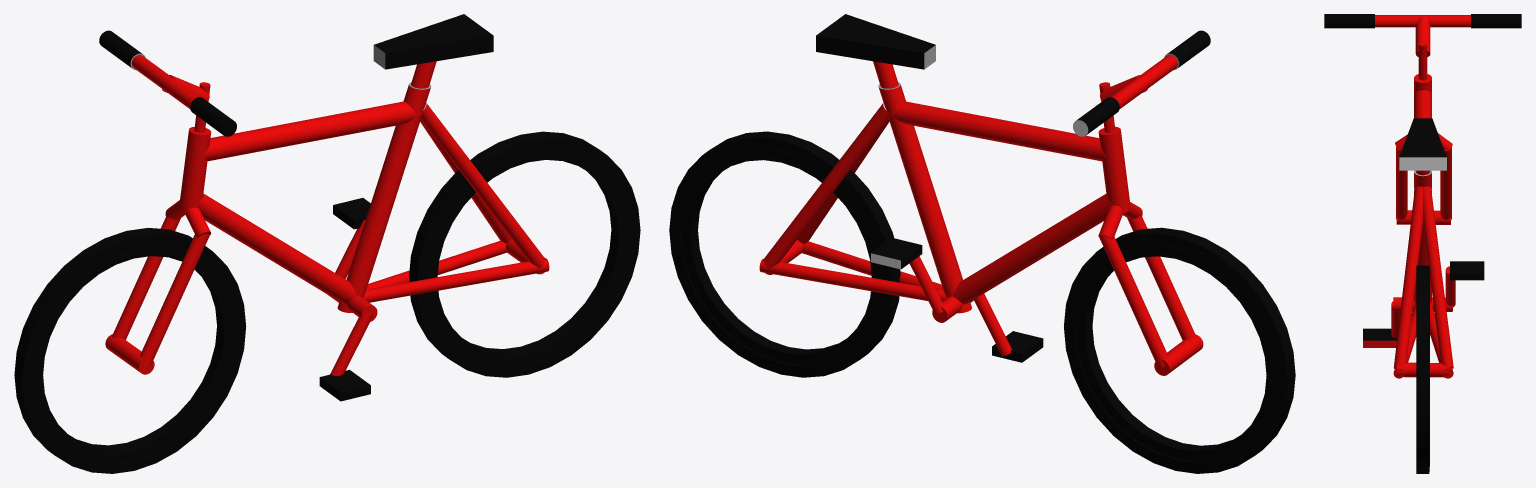
The model's file is bikeObstacle.fbx.
3 renders of one model, left to right at view 1: azimuth 30°, elevation 25°; view 2: azimuth 150°, elevation 25°; view 3: azimuth 270°, elevation 25°, orthographic. The views are drawn at different scales.
Parts seen in each view (by area): view 1: bike:Mesh; view 2: bike:Mesh; view 3: bike:Mesh.
Boxes of the visible parts, x1,y1,x2,y2 form: bike:Mesh: (14,14,640,473); bike:Mesh: (669,14,1295,473); bike:Mesh: (1324,14,1521,473).
Bounding box in the file's own units: 159 × 94.25 × 54.55.
